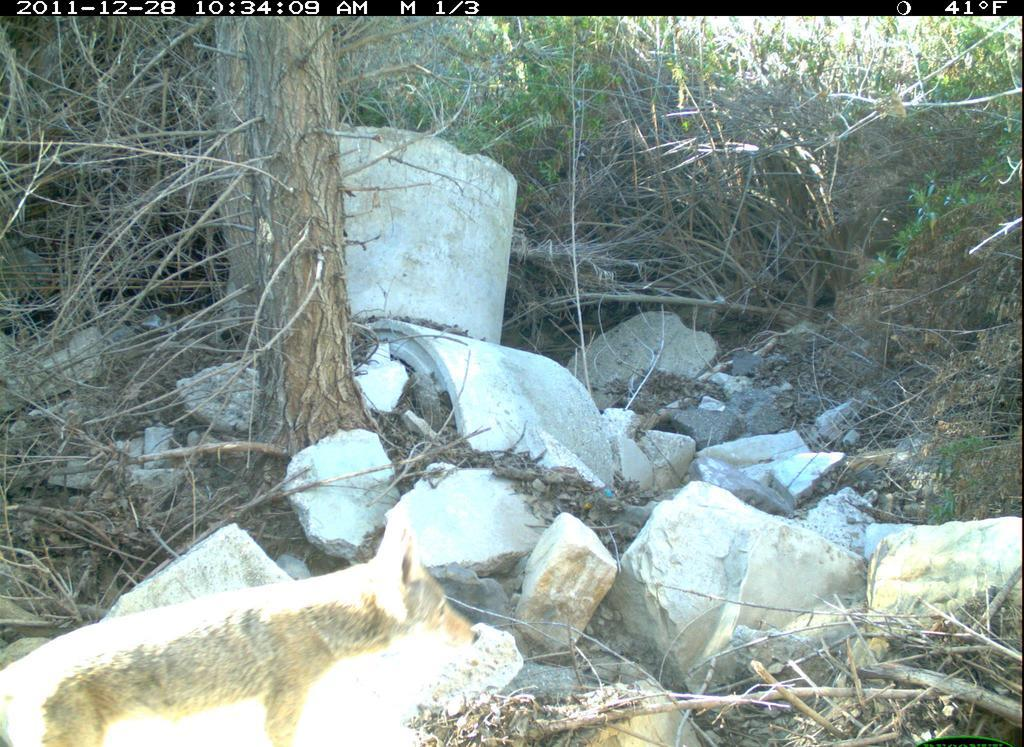coyote: (2, 505, 492, 745)
